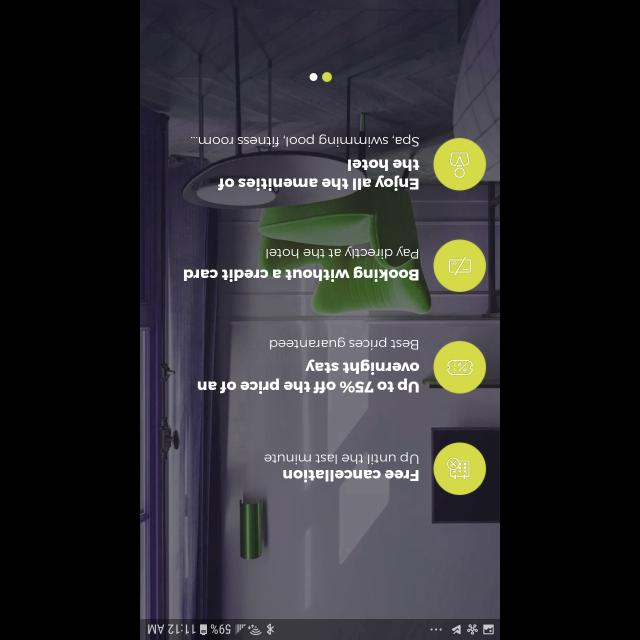backgroundimage: (140, 0, 500, 618)
icon: (432, 240, 486, 292), (434, 137, 486, 190), (434, 341, 486, 394), (434, 442, 486, 494)
pageindicator: (310, 72, 332, 82)
text: (190, 134, 420, 192), (198, 336, 420, 394), (184, 245, 418, 282), (264, 452, 420, 482)
uppertaskbar: (140, 618, 500, 640)
